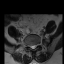CCS_stenosis: (32, 43, 34, 50)
LFS_normal: (36, 42, 38, 48)
LLS_normal: (34, 43, 36, 49)
RFS_stenosis: (28, 42, 30, 48)
RLS_normal: (30, 43, 32, 49)
